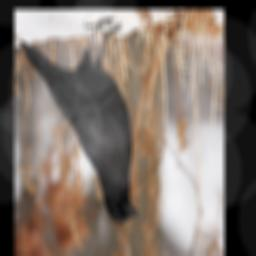Crow: (19, 15, 142, 227)
